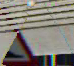Speed Breaker ahead: (2, 1, 37, 62)
